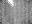person: (7, 0, 13, 9)
